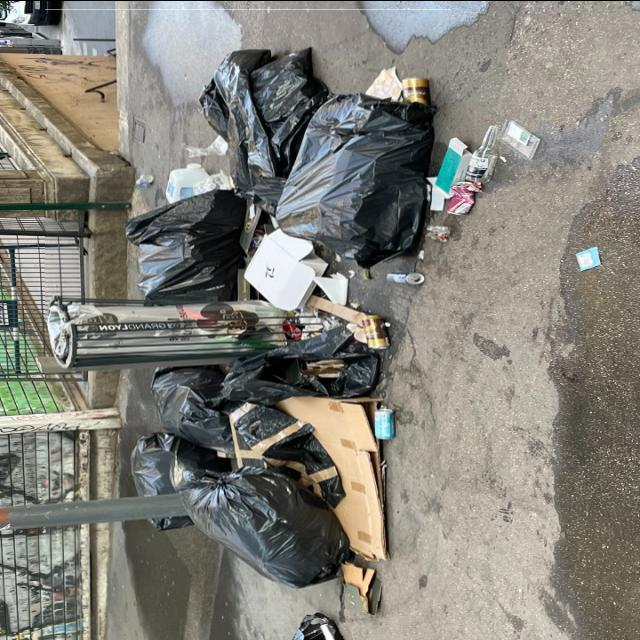Trashbag: (192, 457, 358, 578), (314, 104, 432, 252), (182, 57, 308, 179), (111, 193, 250, 299), (222, 348, 388, 399), (114, 426, 187, 532), (135, 368, 227, 436)
